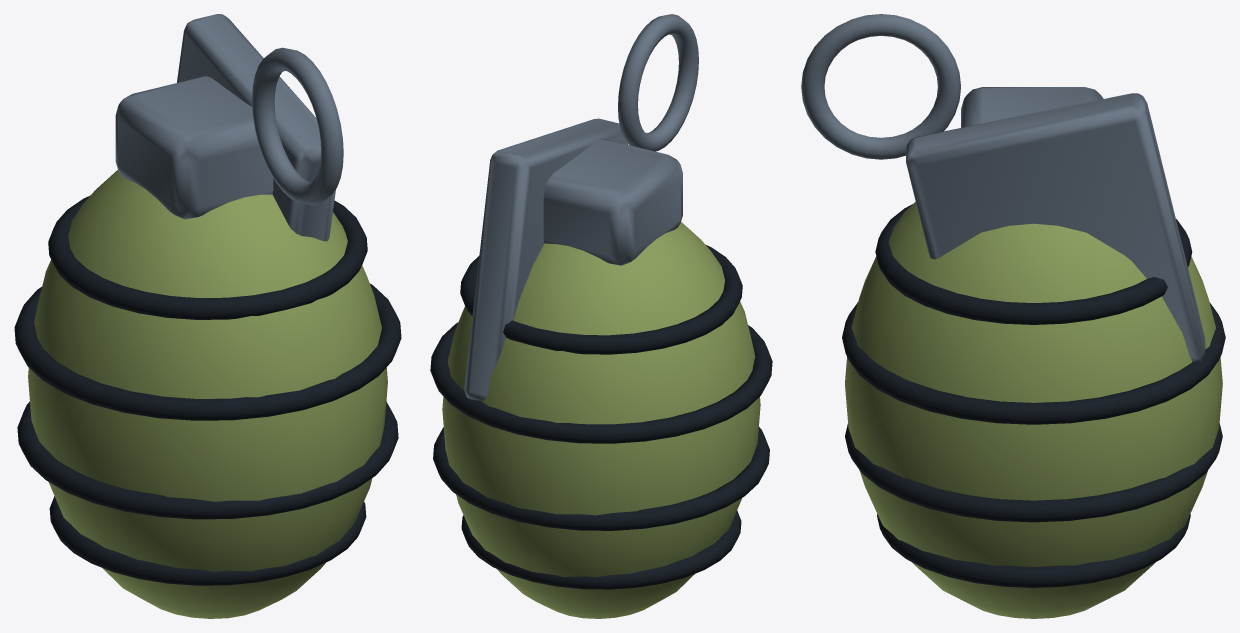
Rendered from grenade.glb.
3 renders of one model, left to right at view 1: azimuth 30°, elevation 25°; view 2: azimuth 150°, elevation 25°; view 3: azimuth 270°, elevation 25°, orthographic. The views are drawn at different scales.
Visible parts, largest first — view 1: rounded grenade body, cartoon body ribs, top cap; view 2: rounded grenade body, top cap, cartoon body ribs; view 3: rounded grenade body, top cap, cartoon body ribs.
Boxes of the visible parts, x1,y1,x2,y2 form: rounded grenade body: (28, 170, 387, 618); cartoon body ribs: (14, 195, 401, 585); top cap: (115, 14, 343, 241); rounded grenade body: (442, 222, 760, 618); top cap: (464, 14, 698, 400); cartoon body ribs: (430, 245, 772, 589); rounded grenade body: (845, 202, 1222, 618); top cap: (801, 14, 1205, 361); cartoon body ribs: (842, 204, 1225, 587).
Bounding box in the file's own units: 0.264 × 0.455 × 0.292.
